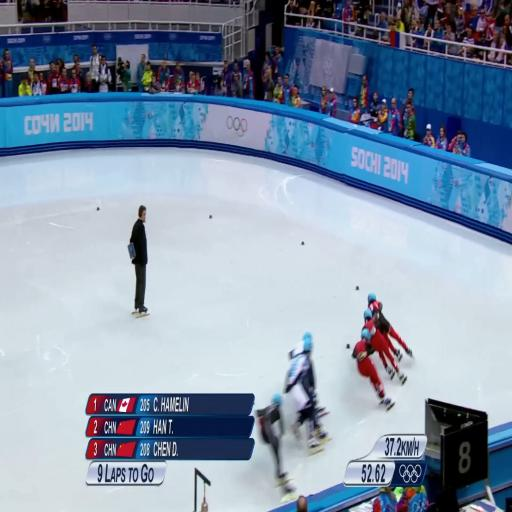Skater: (285, 334, 328, 453), (256, 394, 294, 494), (352, 329, 394, 410), (364, 309, 406, 383), (368, 293, 412, 357), (309, 357, 329, 417)
